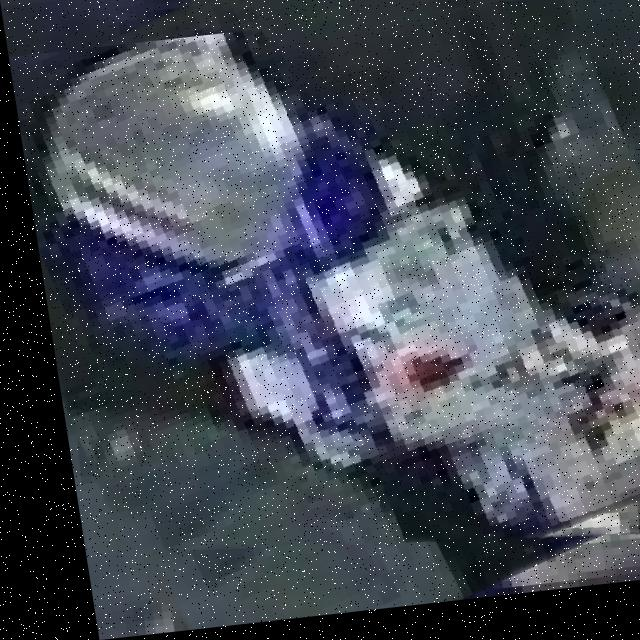litter: (15, 26, 640, 555)
